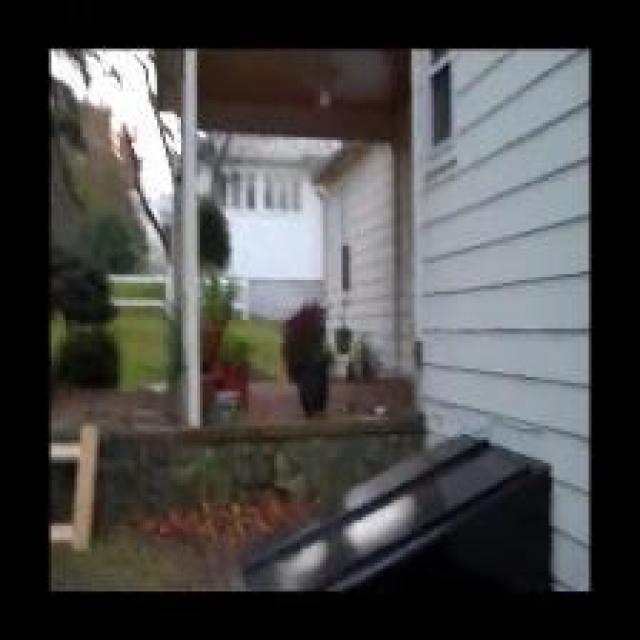other: (137, 502, 314, 530), (205, 332, 253, 410), (280, 300, 331, 336)
